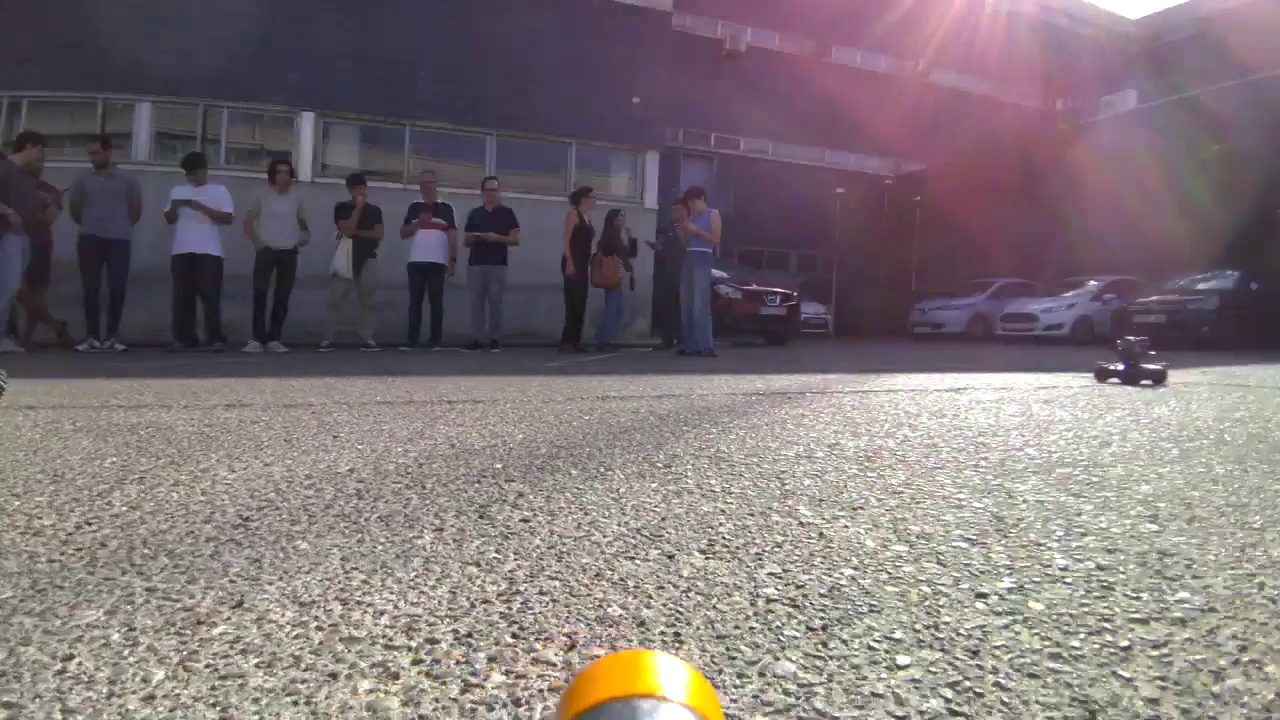robot: (1089, 326, 1170, 392)
